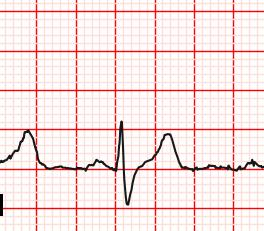ST Depression: (111, 164, 148, 208)
